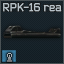RPK-16 rear sight base: (0, 0, 64, 64)
